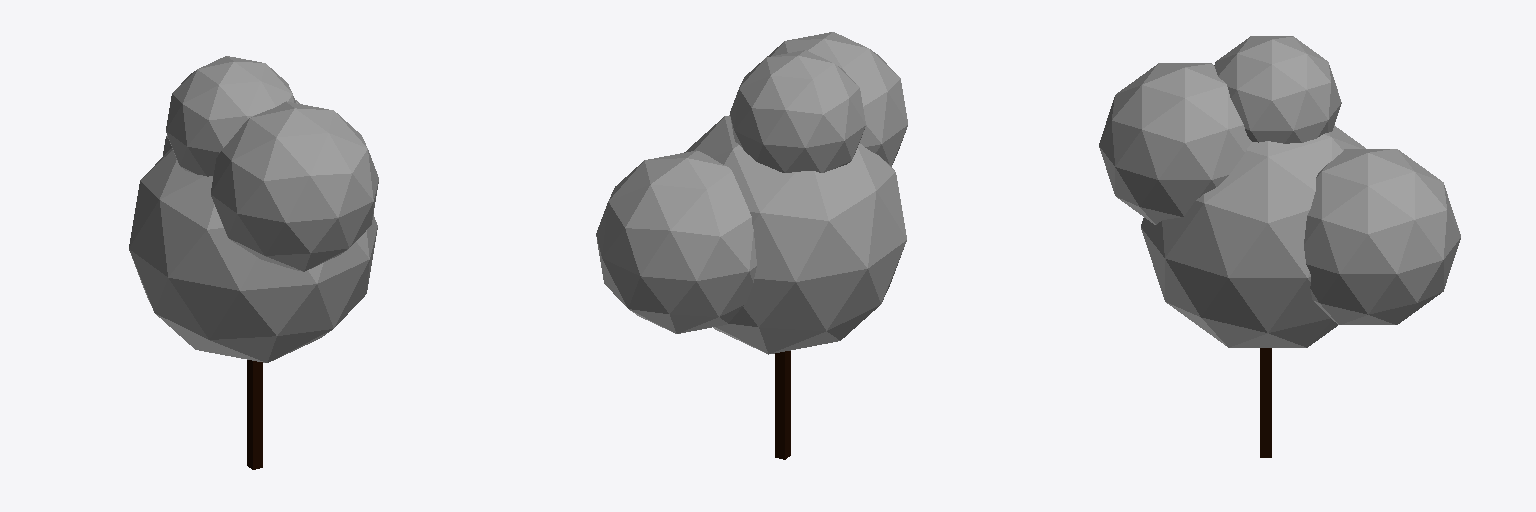
The model's file is Arbol1.obj.
The picture shows the model from 3 angles: view 1: azimuth 30°, elevation 25°; view 2: azimuth 150°, elevation 25°; view 3: azimuth 270°, elevation 25°; orthographic projection.
Parts seen in each view (by area): view 1: Icosphere.007_Icosphere.008; view 2: Icosphere.007_Icosphere.008; view 3: Icosphere.007_Icosphere.008.
Boxes of the visible parts, <box> form: Icosphere.007_Icosphere.008: <box>129,56,378,469</box>; Icosphere.007_Icosphere.008: <box>596,32,907,459</box>; Icosphere.007_Icosphere.008: <box>1099,36,1460,457</box>.
Bounding box in the file's own units: 3.35 × 5.75 × 4.64.